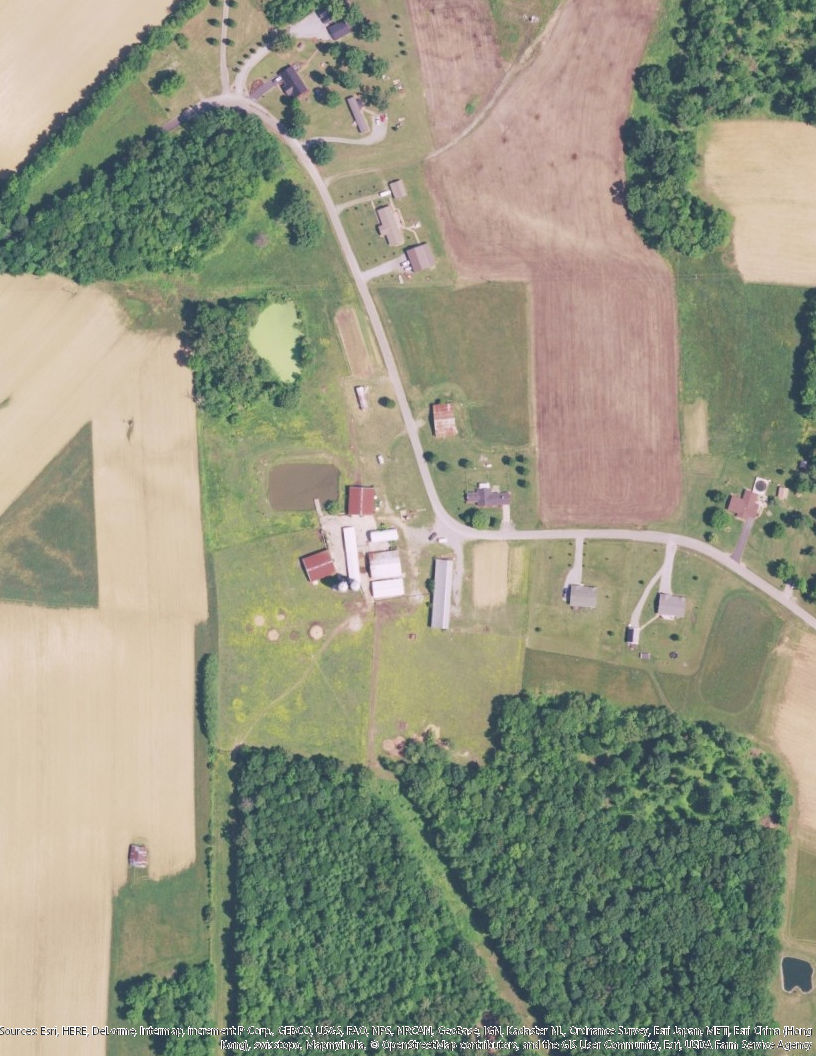cafo: (427, 555, 456, 635), (342, 481, 380, 518), (303, 545, 341, 582), (342, 524, 365, 585), (364, 548, 404, 581), (369, 577, 415, 601), (368, 527, 406, 546)
